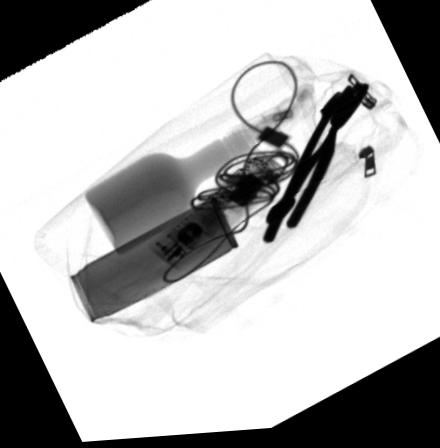Pliers: (261, 88, 371, 246)
Wrench: (263, 95, 343, 233)
